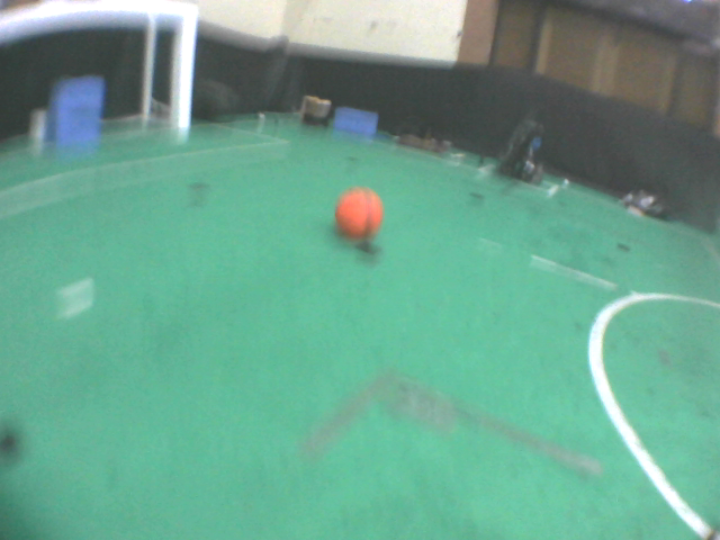bola: (333, 184, 389, 242)
